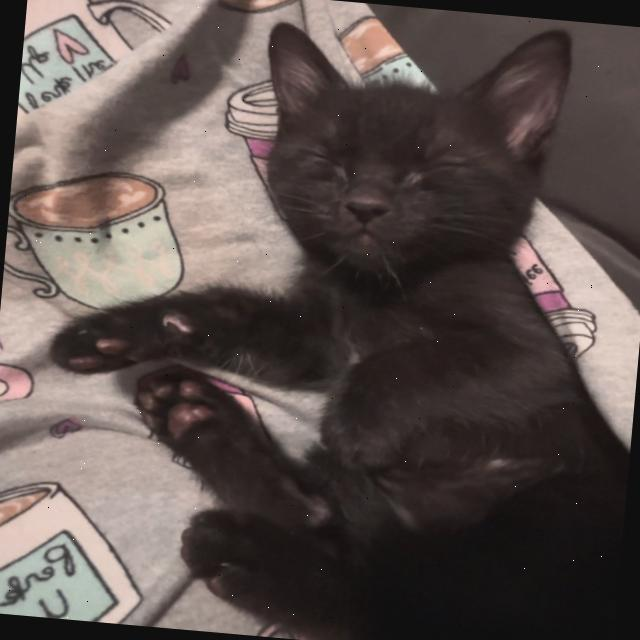bombay_cat: (220, 0, 577, 315)
